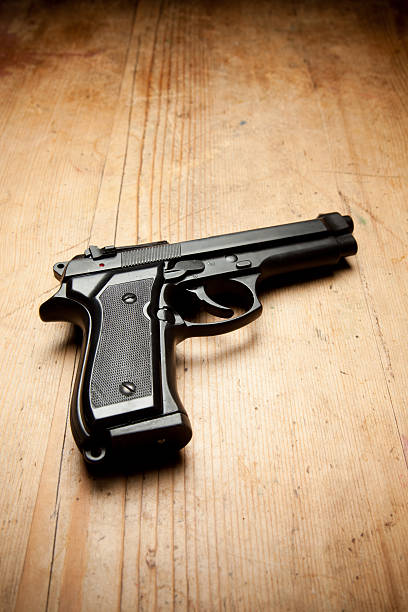gun: (36, 208, 358, 479)
